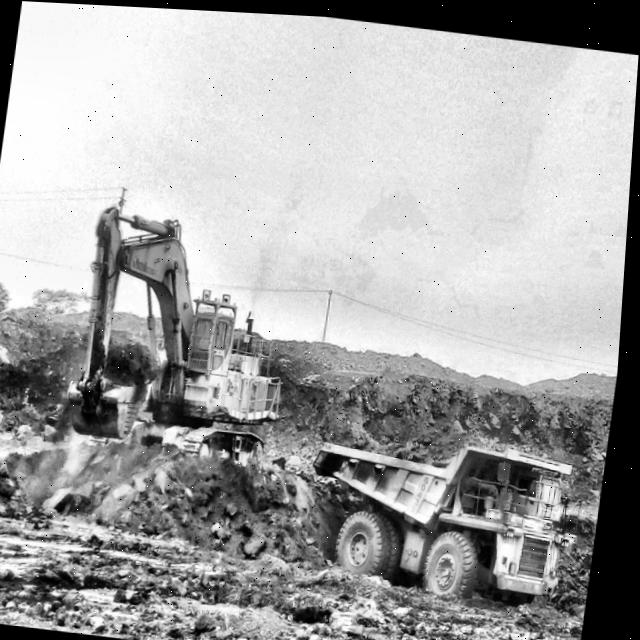dump_truck: (313, 430, 581, 595)
excavator: (79, 212, 283, 456)
